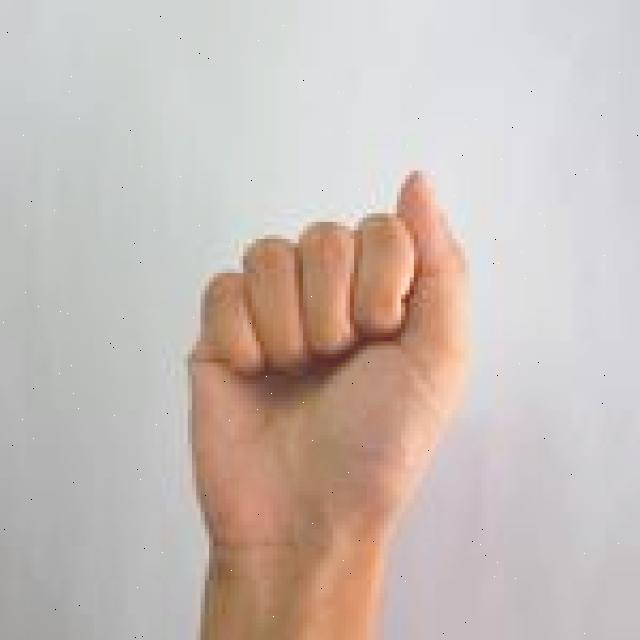A: (181, 148, 488, 640)
